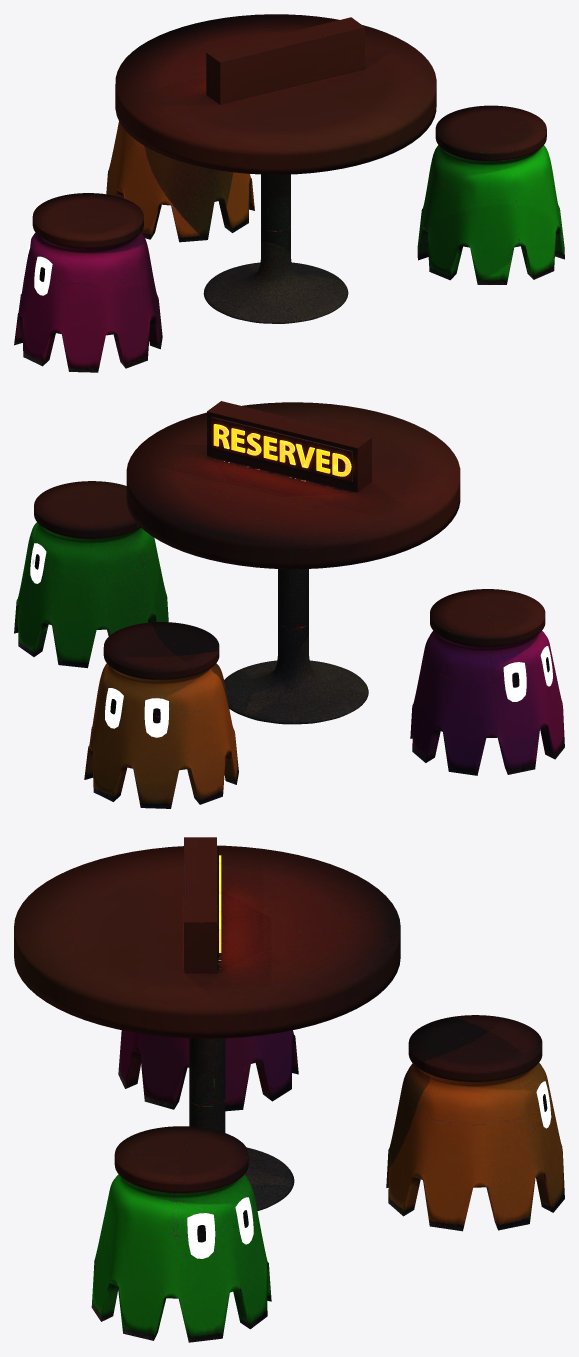
File: table.glb
3 views of the same model, one above another, from view 1: azimuth 30°, elevation 25°; view 2: azimuth 150°, elevation 25°; view 3: azimuth 270°, elevation 25° (orthographic). The views are drawn at different scales.
Visible parts, largest first — view 1: tablemove.002; view 2: tablemove.002; view 3: tablemove.002.
Part boxes in pixels (x1,y1,x2,y2): tablemove.002: (14, 14, 564, 372); tablemove.002: (14, 401, 564, 808); tablemove.002: (14, 837, 564, 1342).
Bounding box in the file's own units: 1.8 × 0.8458 × 1.37.
1 material, 1 textured.
